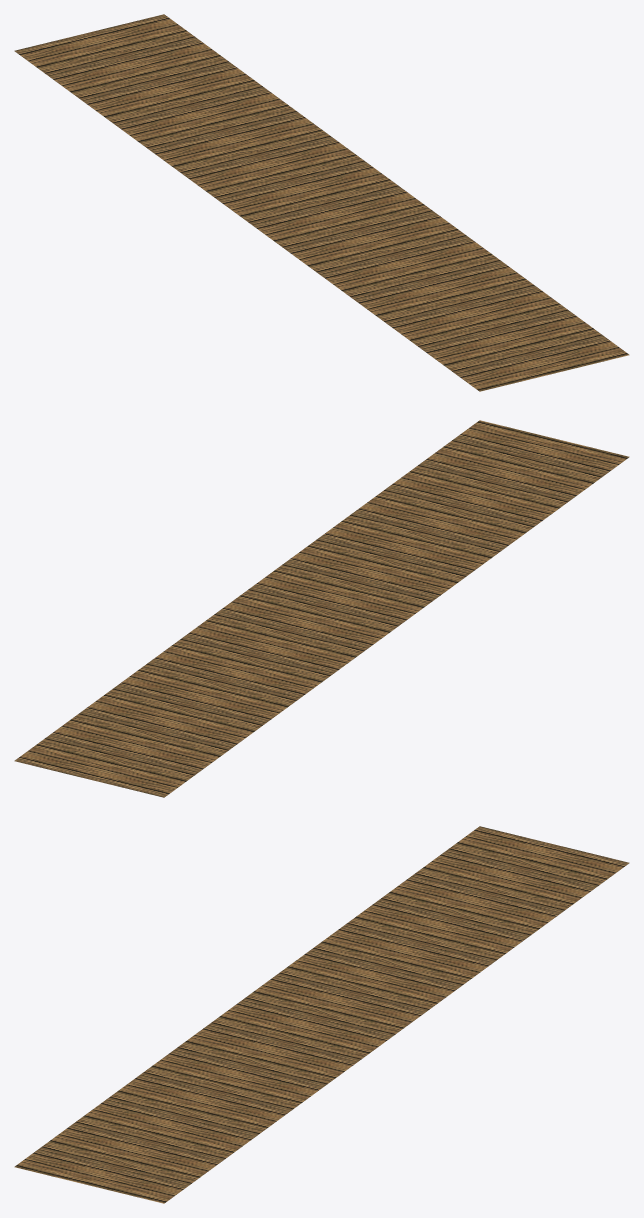
Rendered from LAKETOWN_EXTERIOR_PS_LT_PIER_WOOD03.fbx.
3 renders of one model, top to bottom at view 1: azimuth 30°, elevation 25°; view 2: azimuth 150°, elevation 25°; view 3: azimuth 330°, elevation 25°, orthographic.
Parts seen in each view (by area): view 1: LAKETOWN_EXTERIOR_PS_LT_PIER_WOOD03; view 2: LAKETOWN_EXTERIOR_PS_LT_PIER_WOOD03; view 3: LAKETOWN_EXTERIOR_PS_LT_PIER_WOOD03.
Boxes of the visible parts, x1=… form: LAKETOWN_EXTERIOR_PS_LT_PIER_WOOD03: x1=14, y1=14, x2=629, y2=391; LAKETOWN_EXTERIOR_PS_LT_PIER_WOOD03: x1=14, y1=420, x2=629, y2=797; LAKETOWN_EXTERIOR_PS_LT_PIER_WOOD03: x1=14, y1=826, x2=629, y2=1203.
Size of the model in its own units: 49936 by 0.0612 by 268041.
Materials: 1 (1 with a texture image).
